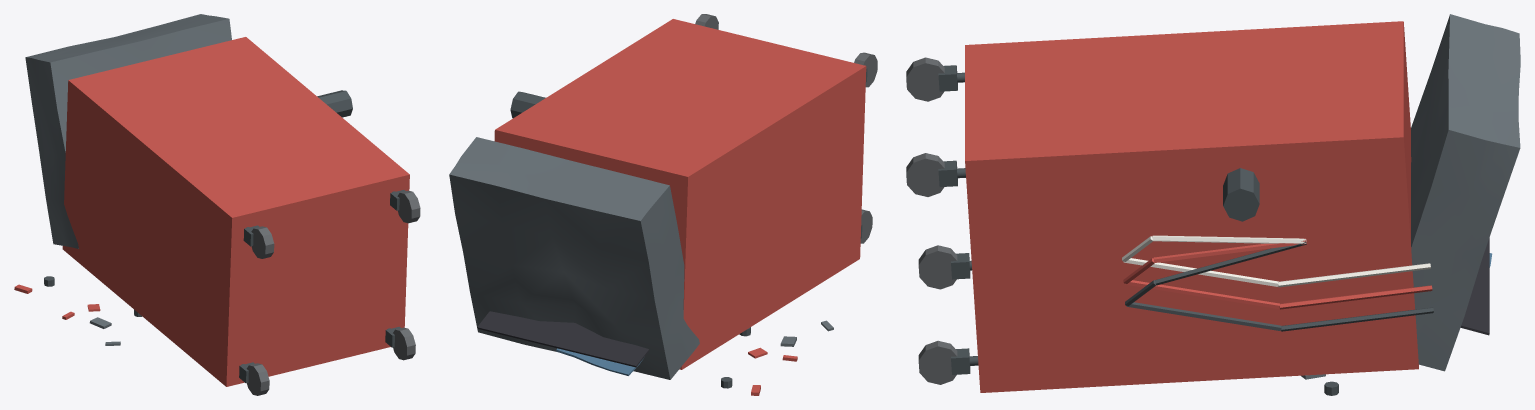
Rendered from estim_unit_broken.fbx.
3 renders of one model, left to right at view 1: azimuth 30°, elevation 25°; view 2: azimuth 150°, elevation 25°; view 3: azimuth 270°, elevation 25°, orthographic. The views are drawn at different scales.
Visible parts, largest first — view 1: estim_unit_broken, estim_unit_broken_debris; view 2: estim_unit_broken, estim_unit_broken_debris; view 3: estim_unit_broken.
Boxes of the visible parts, x1,y1,x2,y2 form: estim_unit_broken: (25, 14, 420, 395); estim_unit_broken_debris: (14, 276, 141, 345); estim_unit_broken: (449, 14, 877, 379); estim_unit_broken_debris: (721, 320, 833, 395); estim_unit_broken: (906, 14, 1520, 392).
Bounding box in the file's own units: 70.06 × 47.82 × 101.
